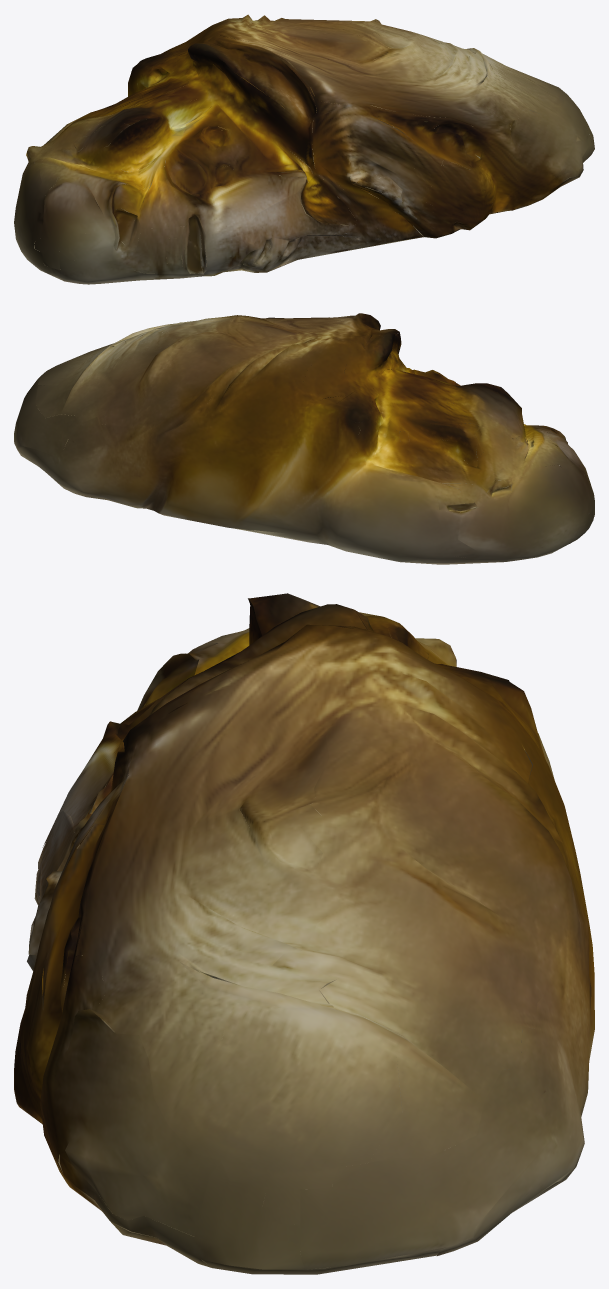
The picture shows the model from 3 angles, top to bottom: view 1: azimuth 30°, elevation 25°; view 2: azimuth 150°, elevation 25°; view 3: azimuth 270°, elevation 25°; orthographic projection. The views are drawn at different scales.
Visible parts, largest first — view 1: material; view 2: material; view 3: material.
Boxes of the visible parts, <box> form: material: <box>14,14,594,284</box>; material: <box>14,313,594,564</box>; material: <box>14,593,594,1274</box>.
Size of the model in its own units: 1.9 by 0.5634 by 0.8999.
Materials: 1 (1 with a texture image).
